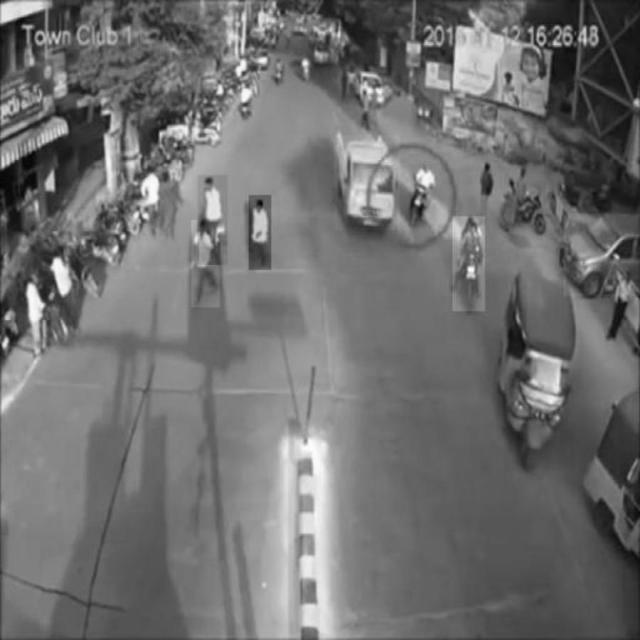person: (198, 175, 228, 265), (191, 220, 219, 308), (250, 196, 272, 270)
vehicle: (504, 273, 575, 470), (564, 214, 640, 296), (334, 136, 400, 230), (453, 217, 485, 311), (410, 164, 436, 226)
